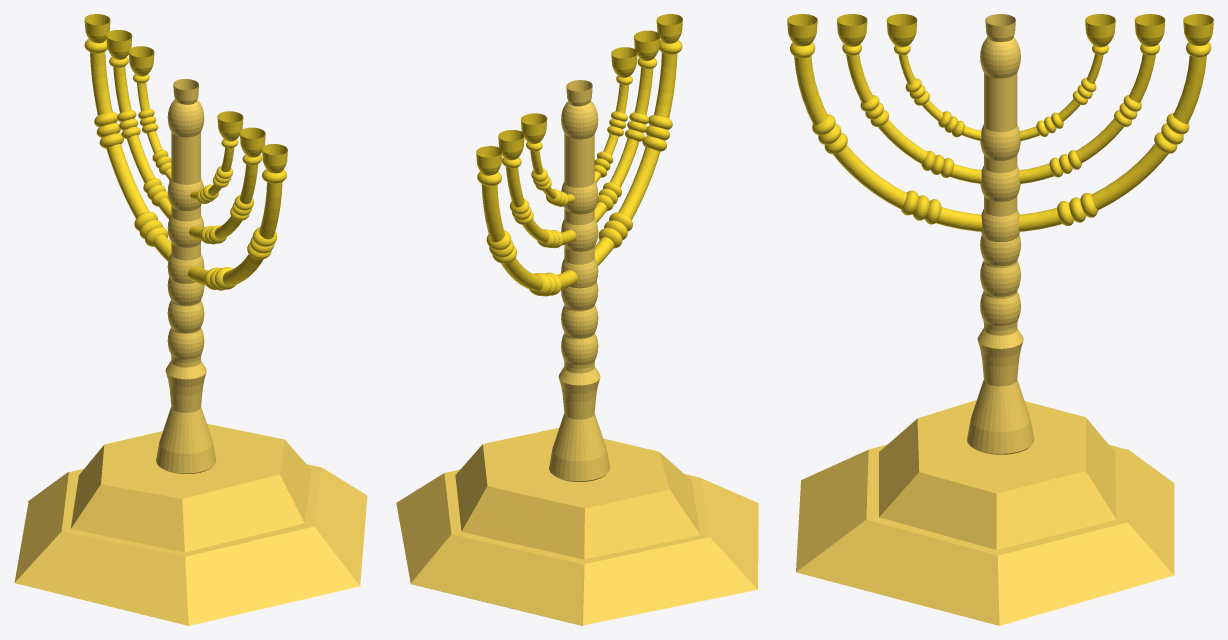
Rendered from candelabro.fbx.
3 views of the same model, side by side, from view 1: azimuth 30°, elevation 25°; view 2: azimuth 150°, elevation 25°; view 3: azimuth 270°, elevation 25° (orthographic). The views are drawn at different scales.
Parts seen in each view (by area): view 1: Sphere.024, Sphere.019, Cylinder.001, Sphere.020, Sphere.022, Cylinder.003, Cylinder.004; view 2: Sphere.024, Sphere.019, Cylinder.001, Sphere.020, Sphere.022, Cylinder.003, Cylinder.004; view 3: Sphere.024, Cylinder.001, Sphere.019, Sphere.020, Cylinder.003, Sphere.022, Cylinder.004.
Part boxes in pixels (left/top/right/bottom): Sphere.024: left=14, top=79, right=367, bottom=625; Sphere.019: left=84, top=14, right=287, bottom=290; Cylinder.001: left=90, top=51, right=282, bottom=286; Sphere.020: left=106, top=30, right=265, bottom=244; Sphere.022: left=128, top=46, right=243, bottom=203; Cylinder.003: left=113, top=66, right=258, bottom=240; Cylinder.004: left=137, top=82, right=234, bottom=200; Sphere.024: left=396, top=80, right=758, bottom=625; Sphere.019: left=476, top=14, right=682, bottom=296; Cylinder.001: left=481, top=52, right=677, bottom=291; Sphere.020: left=498, top=30, right=660, bottom=248; Sphere.022: left=521, top=47, right=637, bottom=206; Cylinder.003: left=506, top=67, right=653, bottom=245; Cylinder.004: left=530, top=84, right=628, bottom=203; Sphere.024: left=796, top=14, right=1174, bottom=625; Cylinder.001: left=794, top=44, right=1206, bottom=231; Sphere.019: left=787, top=14, right=1213, bottom=225; Sphere.020: left=837, top=14, right=1165, bottom=177; Cylinder.003: left=846, top=54, right=1155, bottom=183; Sphere.022: left=886, top=14, right=1115, bottom=137; Cylinder.004: left=898, top=54, right=1103, bottom=140.
Bounding box in the file's own units: 127 × 156 × 119.
